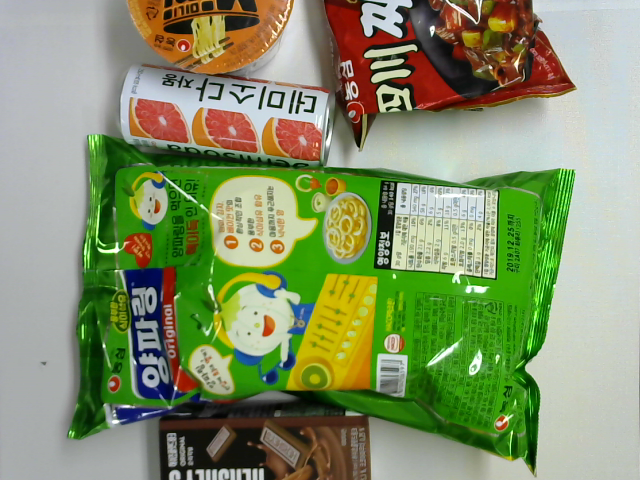Demisoda_Grapefruit_Can_250ml: (112, 59, 340, 169)
Hush_Choco_Drink: (160, 405, 369, 480)
Oninon_Ring: (63, 134, 579, 480)
Sichuan_Chapaghetti: (321, 1, 580, 153)
Udongmini: (126, 1, 298, 79)
